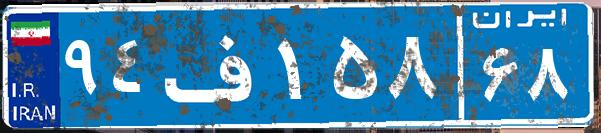1: (273, 28, 330, 110)
4: (110, 28, 158, 105)
5: (330, 28, 385, 110)
6: (475, 38, 525, 113)
8: (385, 28, 445, 110), (525, 38, 570, 115)
9: (57, 26, 110, 107)
ف: (158, 15, 273, 115)
